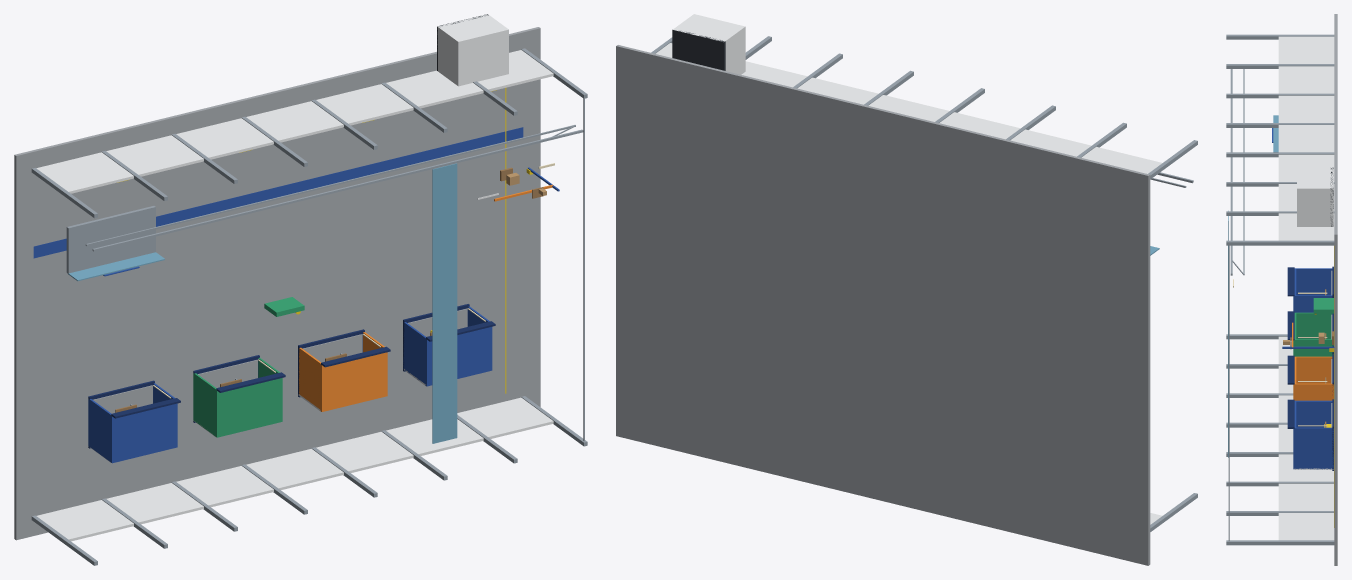
File: almacen-3pl.glb
The picture shows the model from 3 angles, left to right: view 1: azimuth 30°, elevation 25°; view 2: azimuth 150°, elevation 25°; view 3: azimuth 270°, elevation 25°; orthographic projection. The views are drawn at different scales.
Parts seen in each view (by area): view 1: PISO_CONCRETO_60x42, MURO_PERIMETRAL_-19, MURO_PERIMETRAL_19, TRAGALUZ, RUTA_PEATONAL_AZUL, CAJA_TRAILER, MEZZANINE_PISO, MODULO_2_SEGURIDAD_TOP, MODULO_1_LIDERAZGO_TOP, MODULO_3_PROCESOS_TOP, MODULO_4_WMS_TOP, CERCHA_TECHO_CORDON_SUP (+9 smaller); view 2: PISO_CONCRETO_60x42, MURO_PERIMETRAL_19, CAJA_TRAILER, CHASIS_TRAILER; view 3: MURO_PERIMETRAL_19, MURO_PERIMETRAL_-19, CAJA_TRAILER, PISO_CONCRETO_60x42, MODULO_4_WMS_RIGHT, MODULO_4_WMS_LEFT, MODULO_1_LIDERAZGO_LEFT, MODULO_3_PROCESOS_LEFT, MODULO_2_SEGURIDAD_LEFT, MODULO_3_PROCESOS_RIGHT, COLUMNA_ESTRUCTURAL_28_-19, COLUMNA_ESTRUCTURAL_28_19 (+28 smaller).
Boxes of the visible parts, bbox=[...] form: PISO_CONCRETO_60x42: bbox=[14, 27, 540, 540]; MURO_PERIMETRAL_-19: bbox=[36, 397, 553, 541]; MURO_PERIMETRAL_19: bbox=[36, 50, 553, 193]; TRAGALUZ: bbox=[432, 163, 457, 443]; RUTA_PEATONAL_AZUL: bbox=[33, 127, 523, 258]; CAJA_TRAILER: bbox=[437, 14, 508, 86]; MEZZANINE_PISO: bbox=[66, 206, 155, 273]; MODULO_2_SEGURIDAD_TOP: bbox=[215, 378, 282, 437]; MODULO_1_LIDERAZGO_TOP: bbox=[110, 403, 177, 463]; MODULO_3_PROCESOS_TOP: bbox=[320, 352, 387, 411]; MODULO_4_WMS_TOP: bbox=[425, 327, 492, 386]; CERCHA_TECHO_CORDON_SUP: bbox=[92, 129, 583, 251]; PISO_CONCRETO_60x42: bbox=[616, 45, 1150, 565]; MURO_PERIMETRAL_19: bbox=[655, 43, 1162, 173]; CAJA_TRAILER: bbox=[673, 14, 745, 74]; CHASIS_TRAILER: bbox=[672, 29, 725, 70]; MURO_PERIMETRAL_19: bbox=[1278, 36, 1334, 240]; MURO_PERIMETRAL_-19: bbox=[1278, 336, 1334, 540]; CAJA_TRAILER: bbox=[1297, 167, 1333, 226]; PISO_CONCRETO_60x42: bbox=[1334, 14, 1337, 565]; MODULO_4_WMS_RIGHT: bbox=[1294, 427, 1333, 469]; MODULO_4_WMS_LEFT: bbox=[1294, 400, 1332, 427]; MODULO_1_LIDERAZGO_LEFT: bbox=[1294, 268, 1332, 295]; MODULO_3_PROCESOS_LEFT: bbox=[1295, 356, 1332, 383]; MODULO_2_SEGURIDAD_LEFT: bbox=[1295, 312, 1332, 339]; MODULO_3_PROCESOS_RIGHT: bbox=[1294, 383, 1333, 400]; COLUMNA_ESTRUCTURAL_28_-19: bbox=[1226, 540, 1334, 545]; COLUMNA_ESTRUCTURAL_28_19: bbox=[1226, 240, 1334, 245].
Bounding box in the file's own units: 60 × 45 × 12.76.
